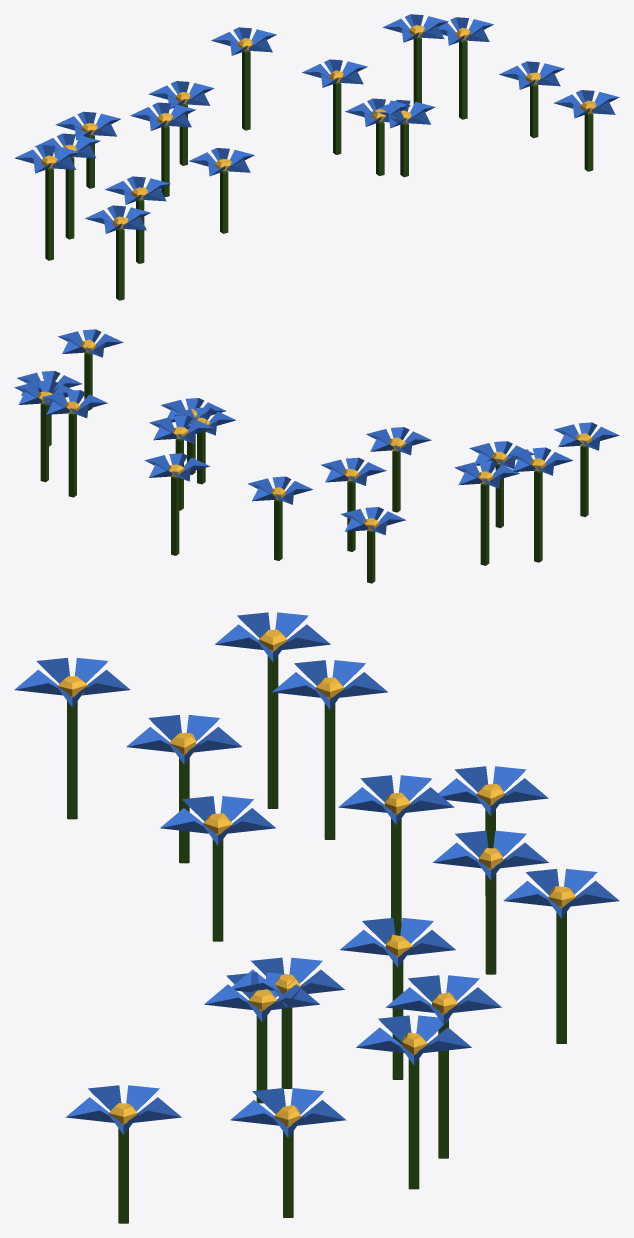
Rendered from bed_flowers_2.obj.
3 renders of one model, top to bottom at view 1: azimuth 30°, elevation 25°; view 2: azimuth 150°, elevation 25°; view 3: azimuth 270°, elevation 25°, orthographic. The views are drawn at different scales.
Parts seen in each view (by area): view 1: bed_flowers_2; view 2: bed_flowers_2; view 3: bed_flowers_2.
Boxes of the visible parts, x1=… form: bed_flowers_2: x1=14, y1=14, x2=619, y2=300; bed_flowers_2: x1=14, y1=329, x2=619, y2=583; bed_flowers_2: x1=14, y1=612, x2=619, y2=1223.
Bounding box in the file's own units: 4.09 × 0.7452 × 2.27.
